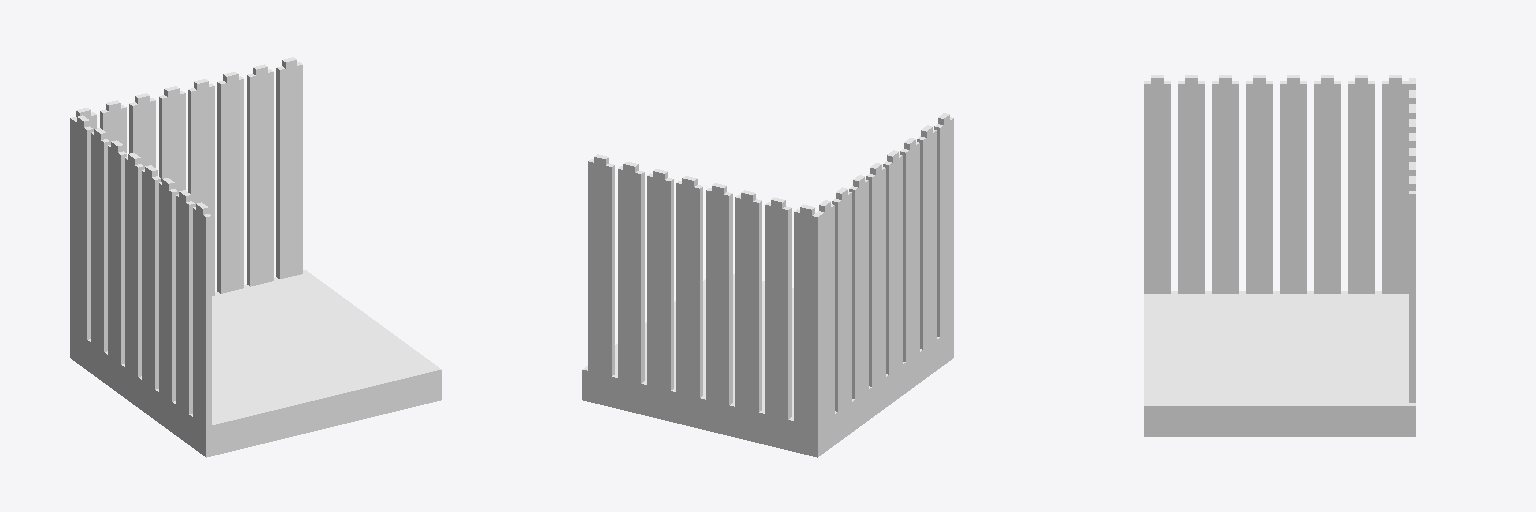
File: fence2NormalNorm.obj
3 renders of one model, left to right at view 1: azimuth 30°, elevation 25°; view 2: azimuth 150°, elevation 25°; view 3: azimuth 270°, elevation 25°, orthographic.
Parts seen in each view (by area): view 1: object 1; view 2: object 1; view 3: object 1.
Part boxes in pixels (x1,y1,x2,y2): object 1: (70, 57, 441, 457); object 1: (582, 113, 953, 457); object 1: (1144, 75, 1415, 436).
Size of the model in its own units: 4 by 4 by 4.